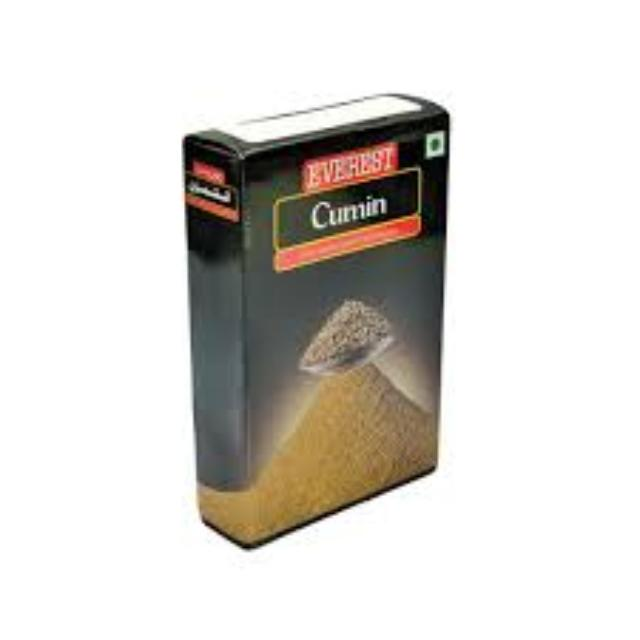cardboard paper: (182, 91, 444, 540)
